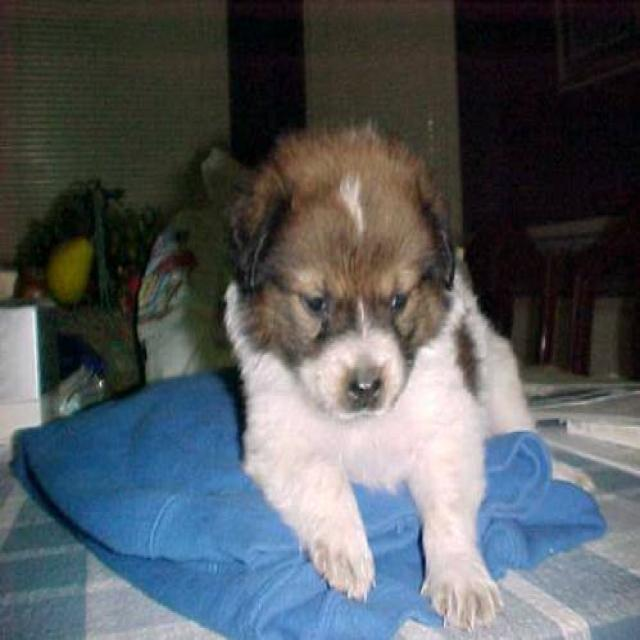dog: (219, 118, 596, 631)
